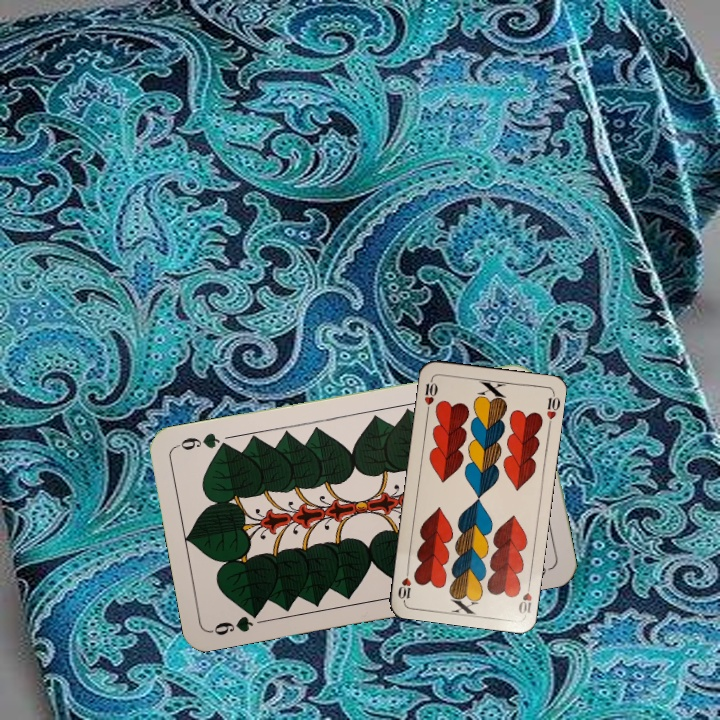G9: (207, 606, 264, 638)
H10: (420, 374, 440, 415), (514, 577, 535, 616)
